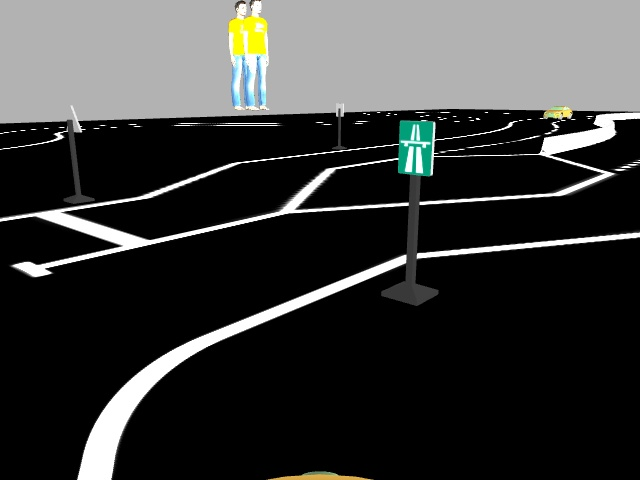HighwayEntrance: (396, 116, 435, 176)
